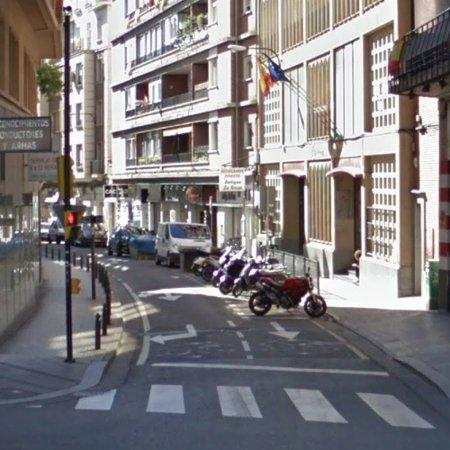crosswalks: (75, 386, 436, 429)
